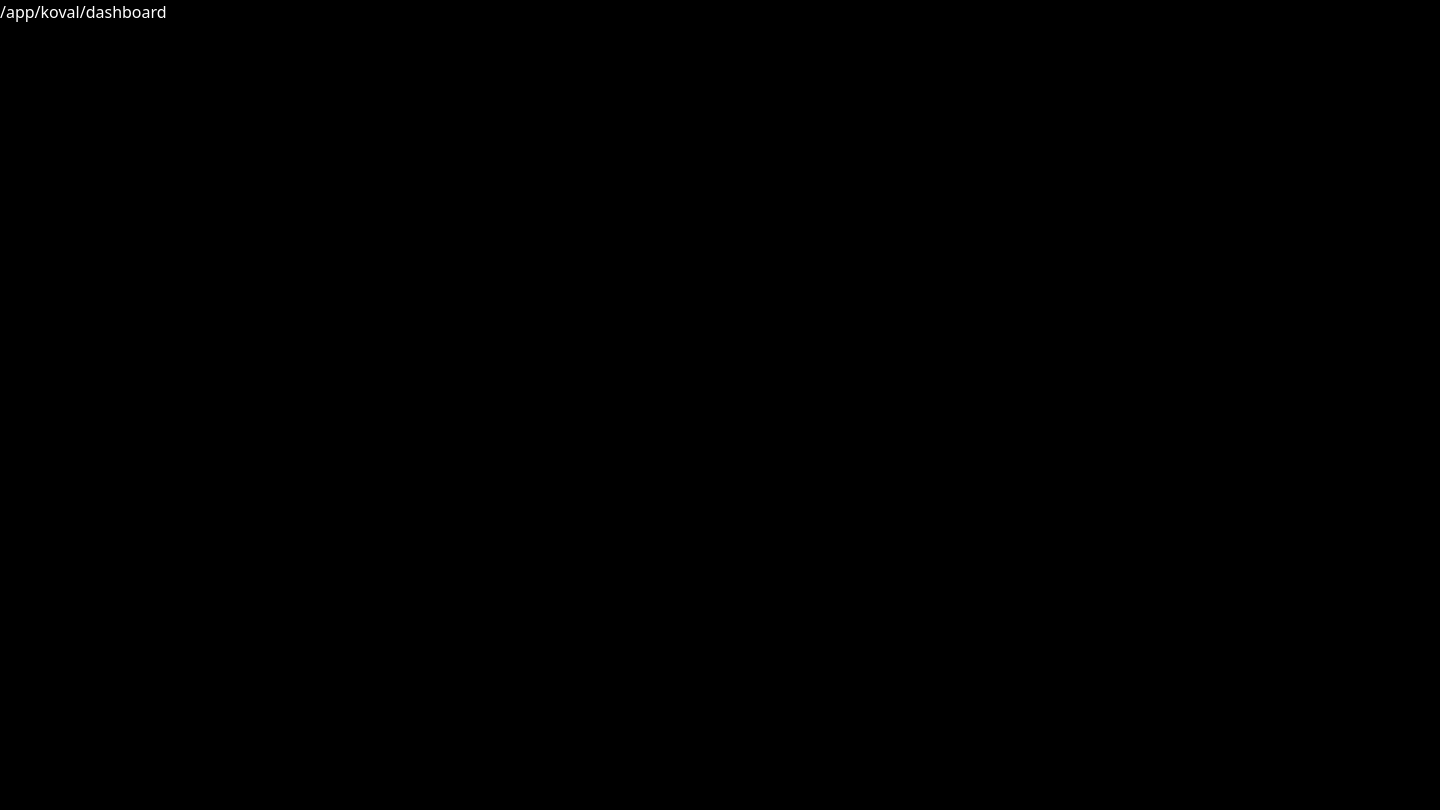
Scenario: still shows the sources that answered when one of them fails
Type keys "{Control>}k{/Control}"
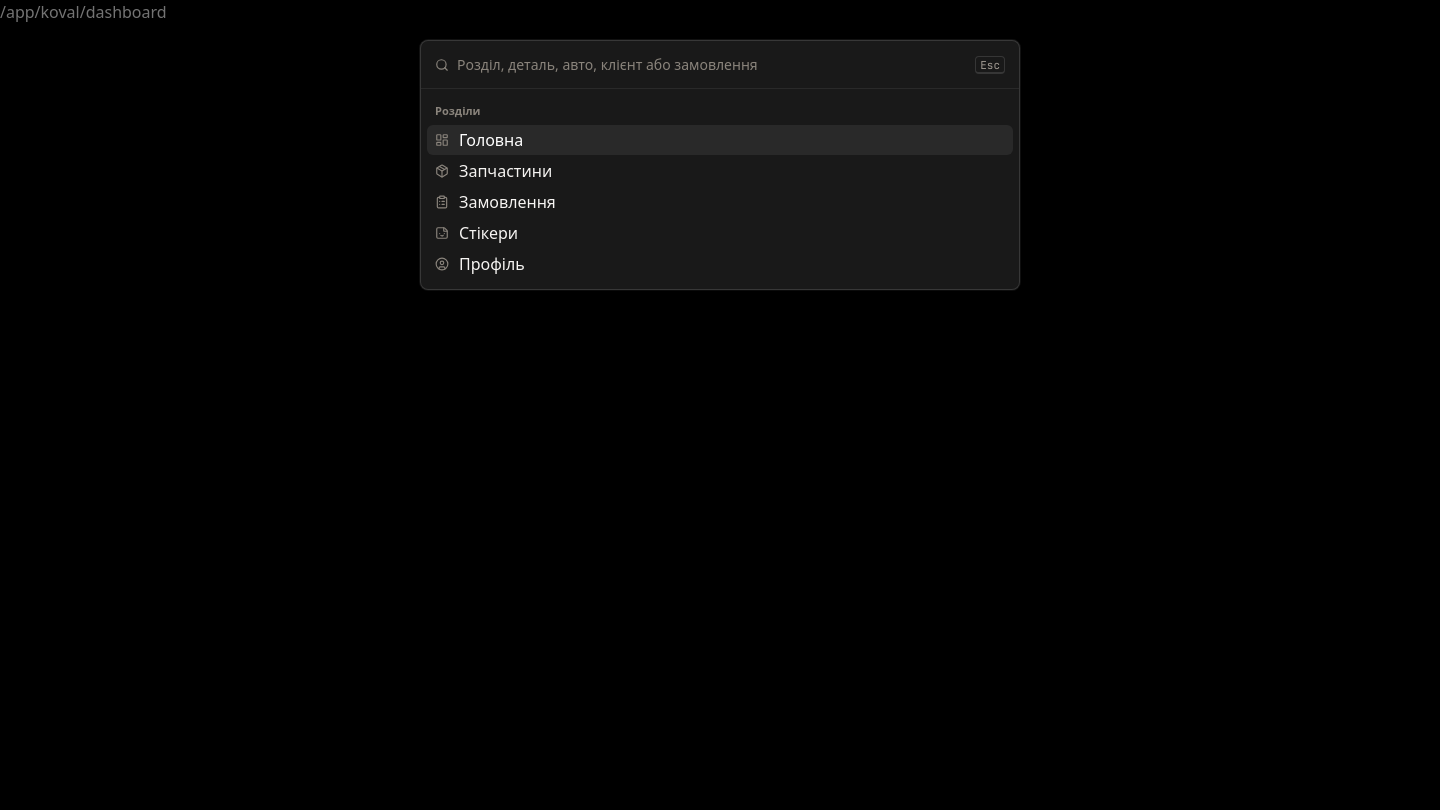
In the dropdown named "Пошук по кабінету": coordinates (712, 64) [457,54,967,75], type "петро"
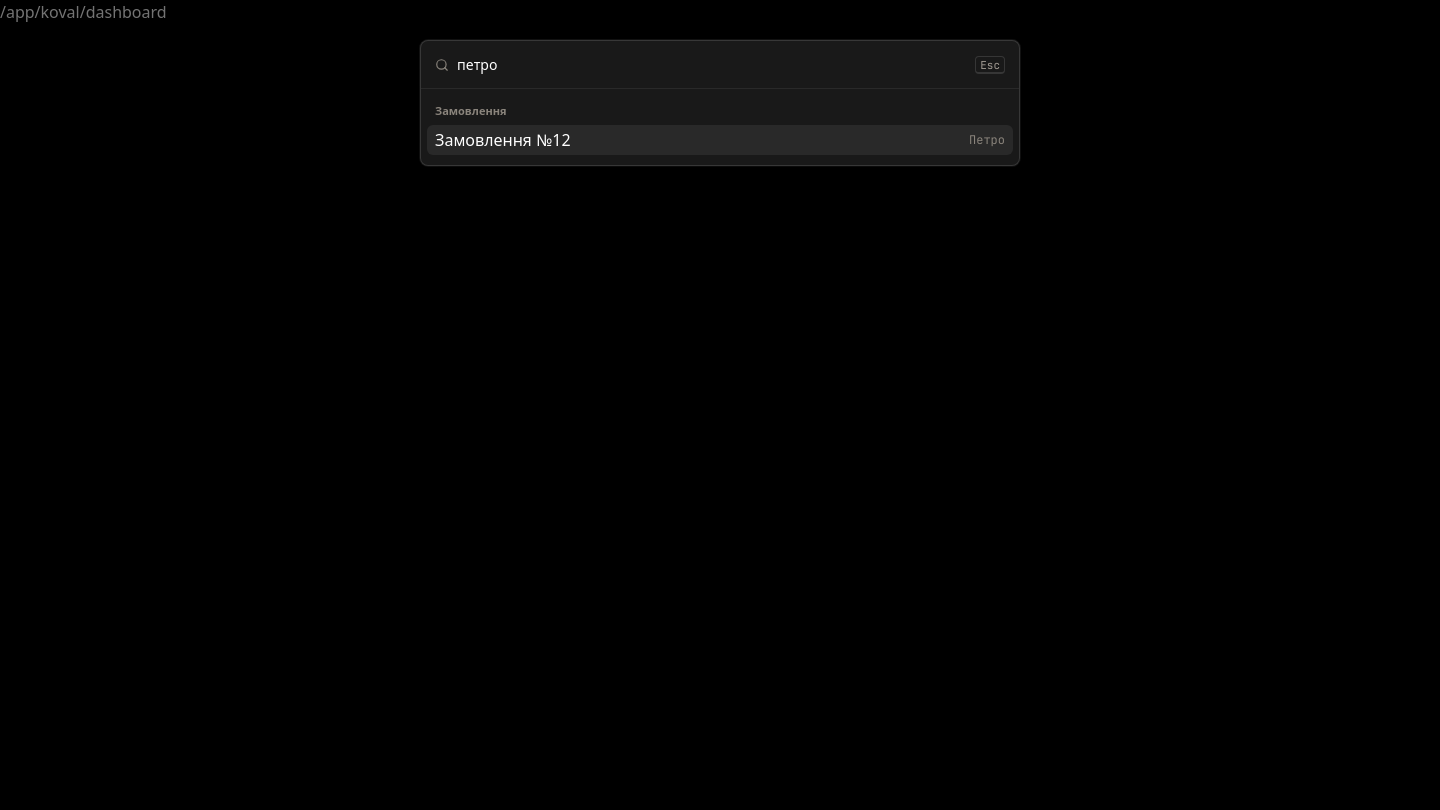
Result: the option "Замовлення №12 Петро" is shown at [427,124,1013,154]
